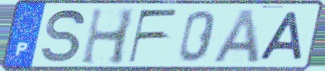0: (177, 9, 218, 64)
A: (210, 7, 262, 65), (257, 10, 305, 62)
F: (127, 7, 181, 65)
H: (79, 6, 138, 67)
S: (40, 7, 88, 65)
